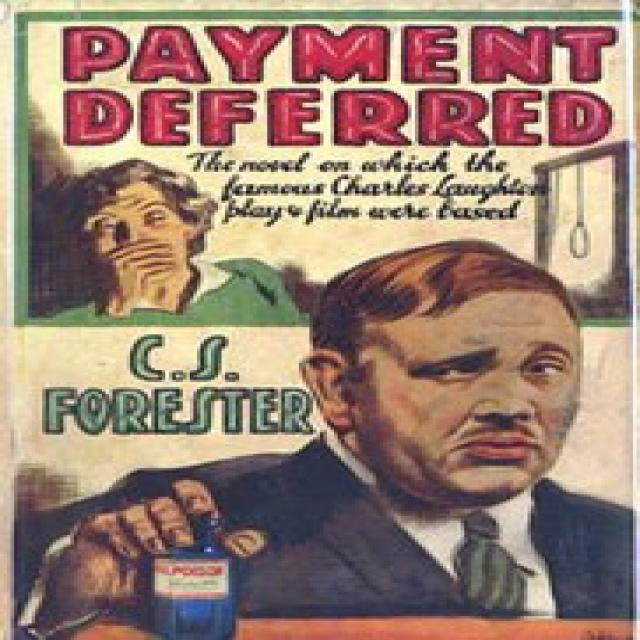movie-judul: (48, 21, 634, 149)
picture: (13, 240, 636, 639), (51, 158, 306, 328)
